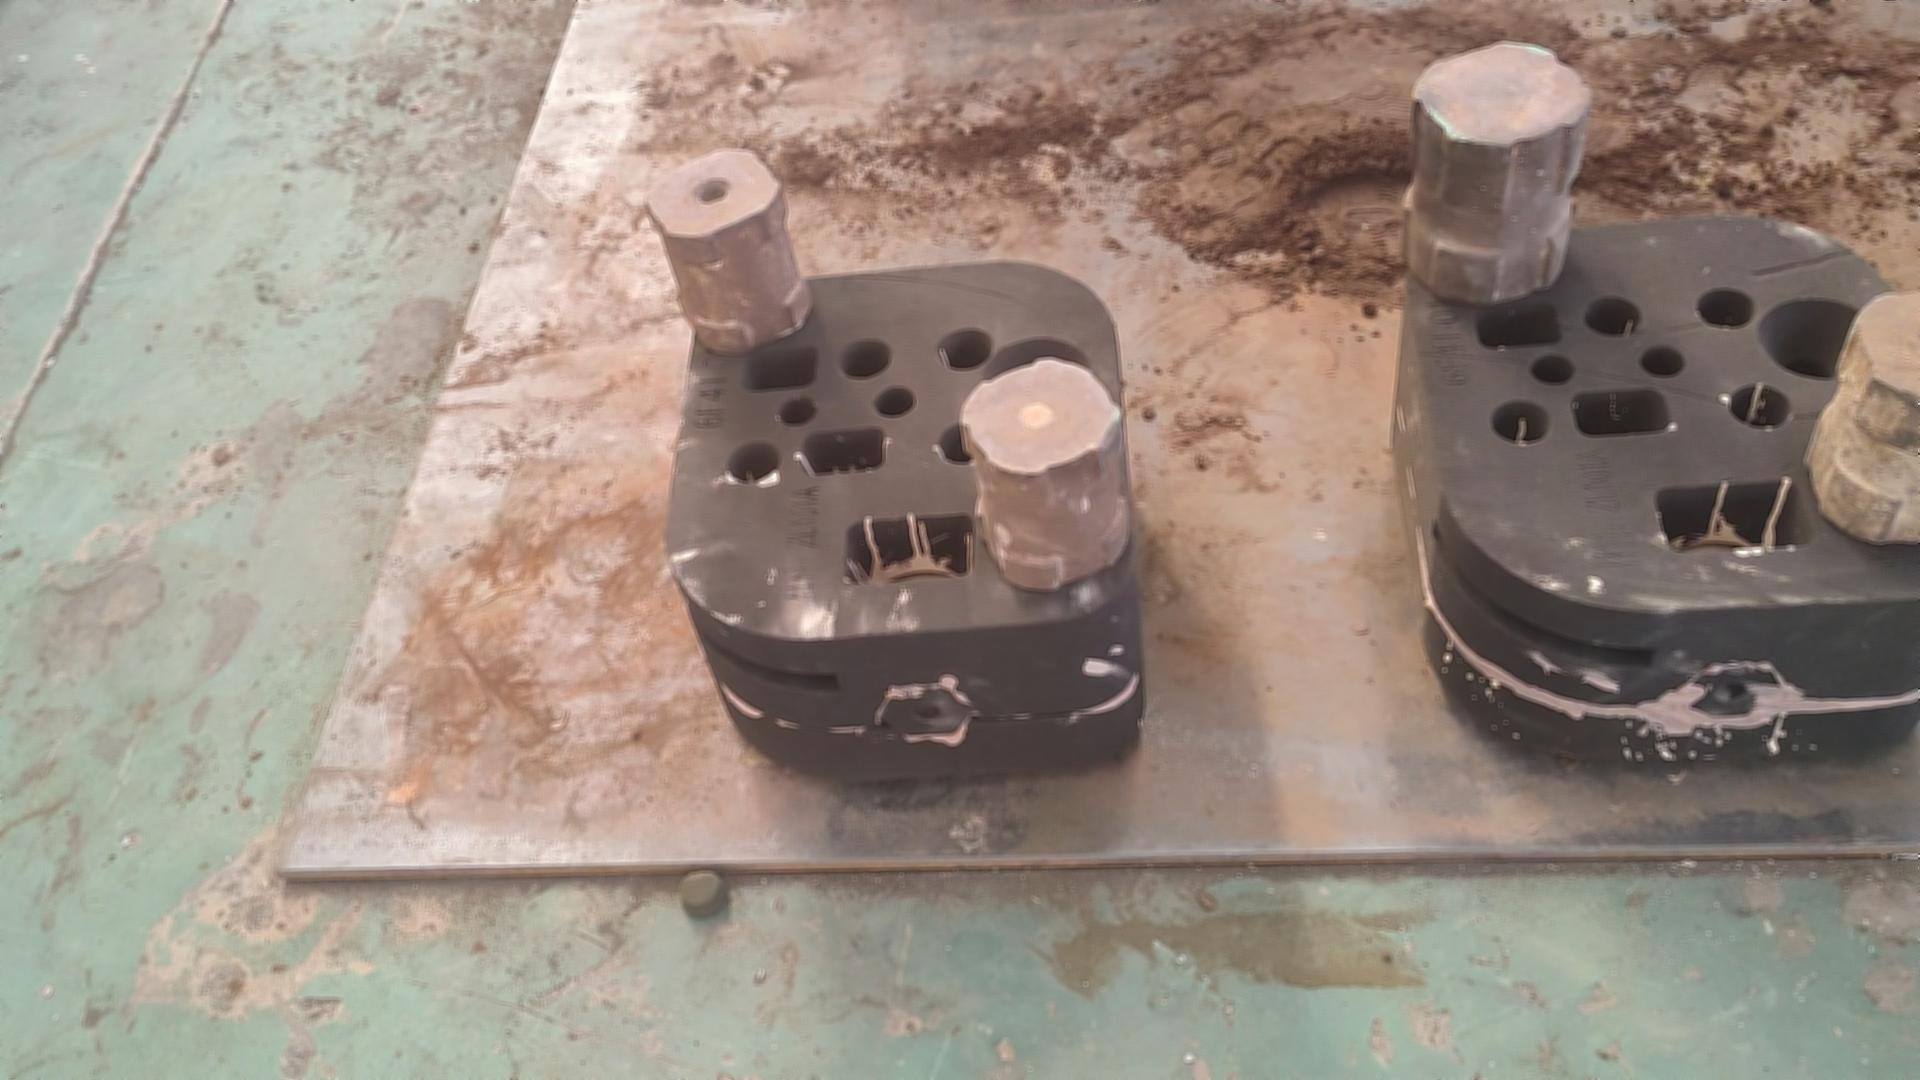pouring hole: (1758, 297, 1874, 382), (985, 338, 1095, 418)
